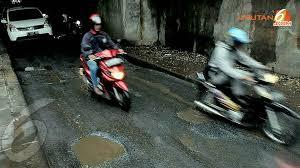Pothole: (68, 120, 130, 168), (170, 99, 221, 141), (128, 63, 176, 104), (21, 59, 60, 80), (63, 57, 81, 80)
